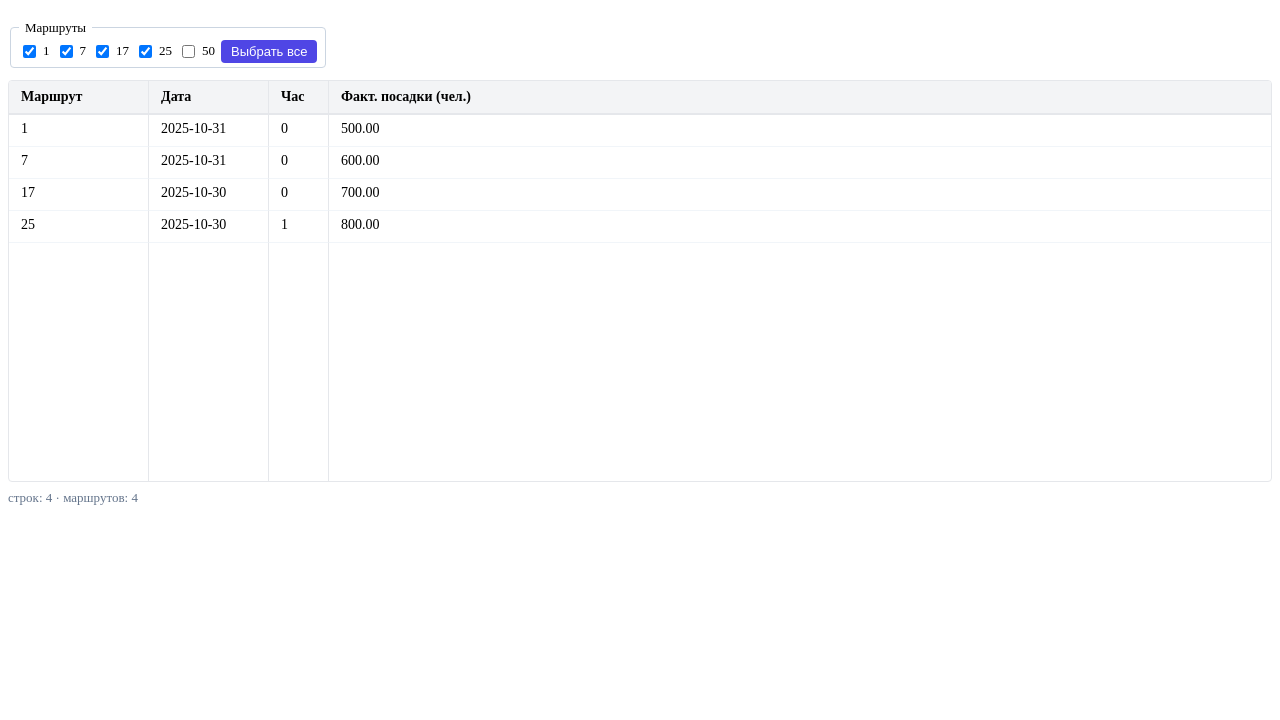
Test: <HistoricalTable> › кнопка "Свернуть" возвращает к щадящему выбору
This screenshot has width=1280, height=720.
Click the button with test id "historical-table-show-all".
click(269, 51)  # box [221,40,318,63]
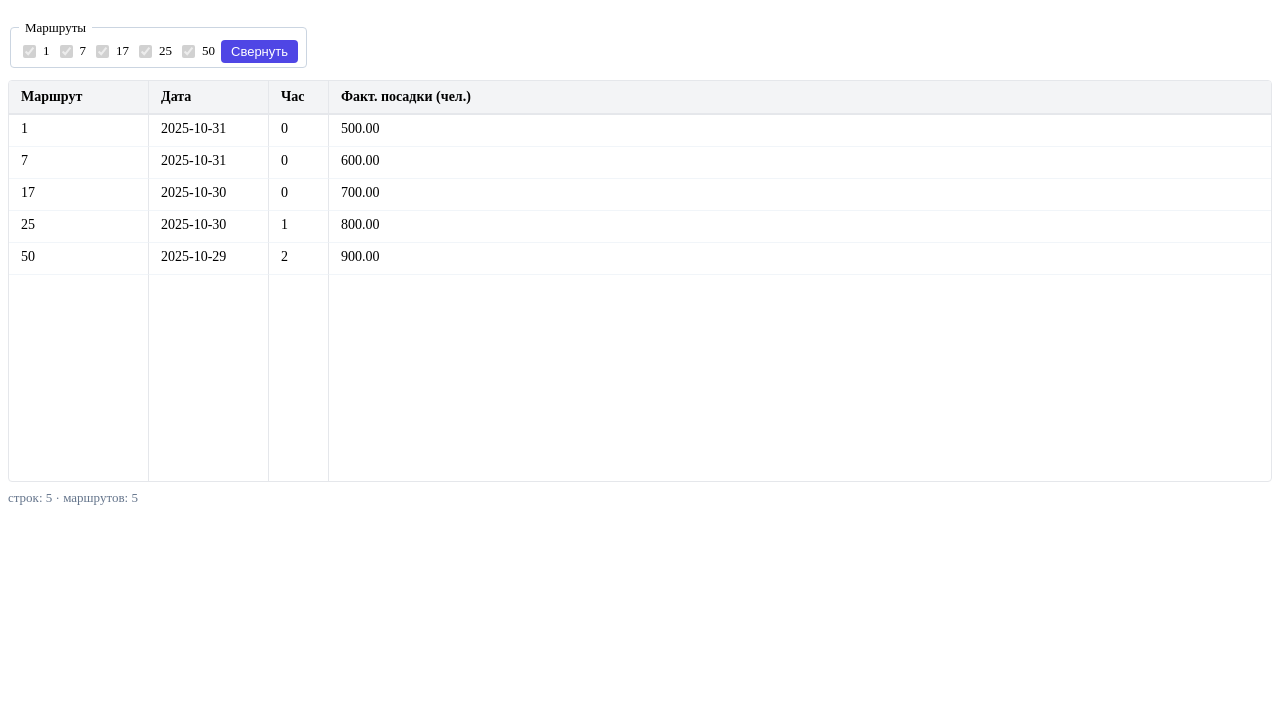
Click the button with test id "historical-table-collapse".
click(260, 51)  # box [221,40,298,63]
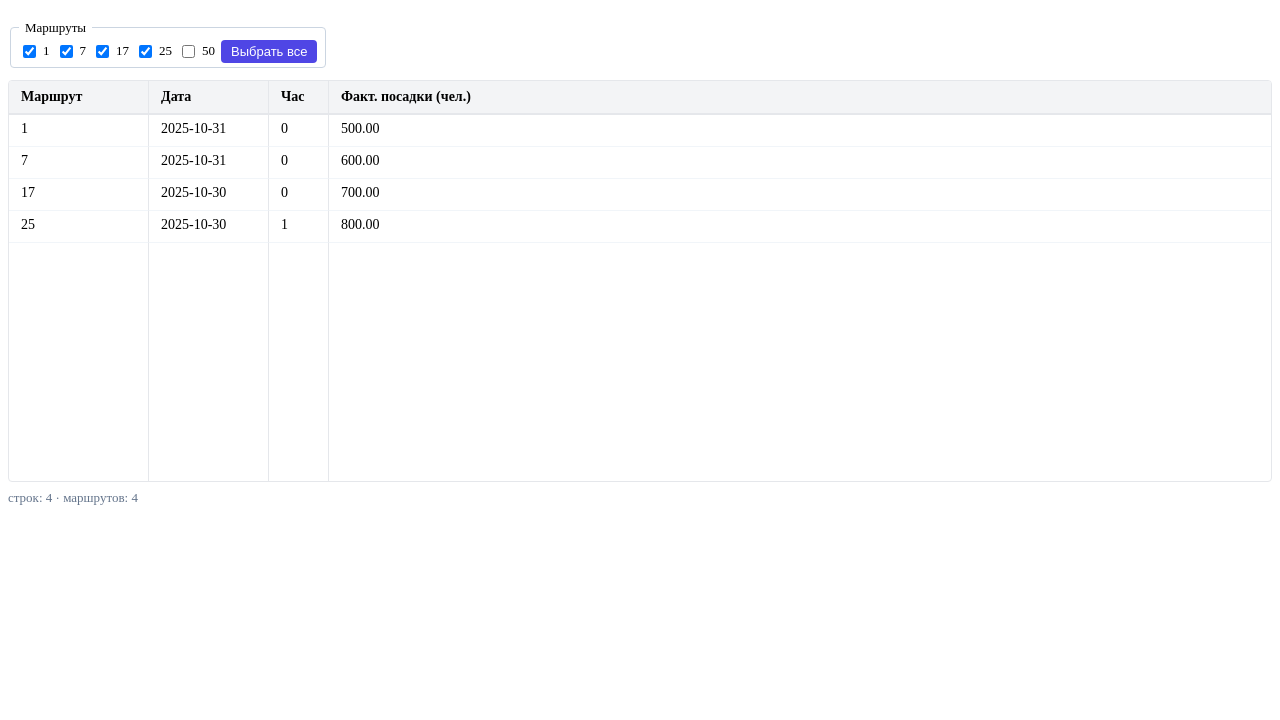
Now the checkbox named "Маршрут 50" is not checked, box [182,45,195,58]
Now the button with test id "historical-table-show-all" is shown, box [221,40,318,63]
